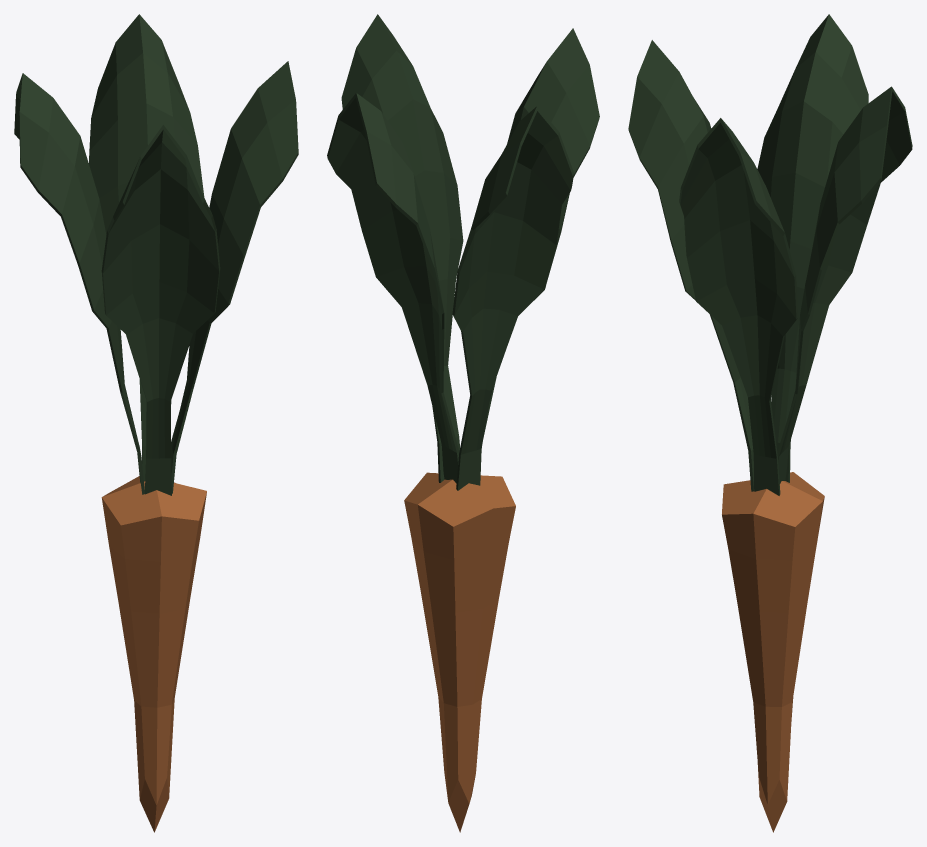
The model's file is Carrot.glb.
3 renders of one model, left to right at view 1: azimuth 30°, elevation 25°; view 2: azimuth 150°, elevation 25°; view 3: azimuth 270°, elevation 25°, orthographic.
Parts seen in each view (by area): view 1: Carrot; view 2: Carrot; view 3: Carrot.
Boxes of the visible parts, <box> form: Carrot: <box>14,14,298,832</box>; Carrot: <box>327,14,599,832</box>; Carrot: <box>628,14,912,832</box>.
Size of the model in its own units: 0.9467 by 2.78 by 0.9316.
